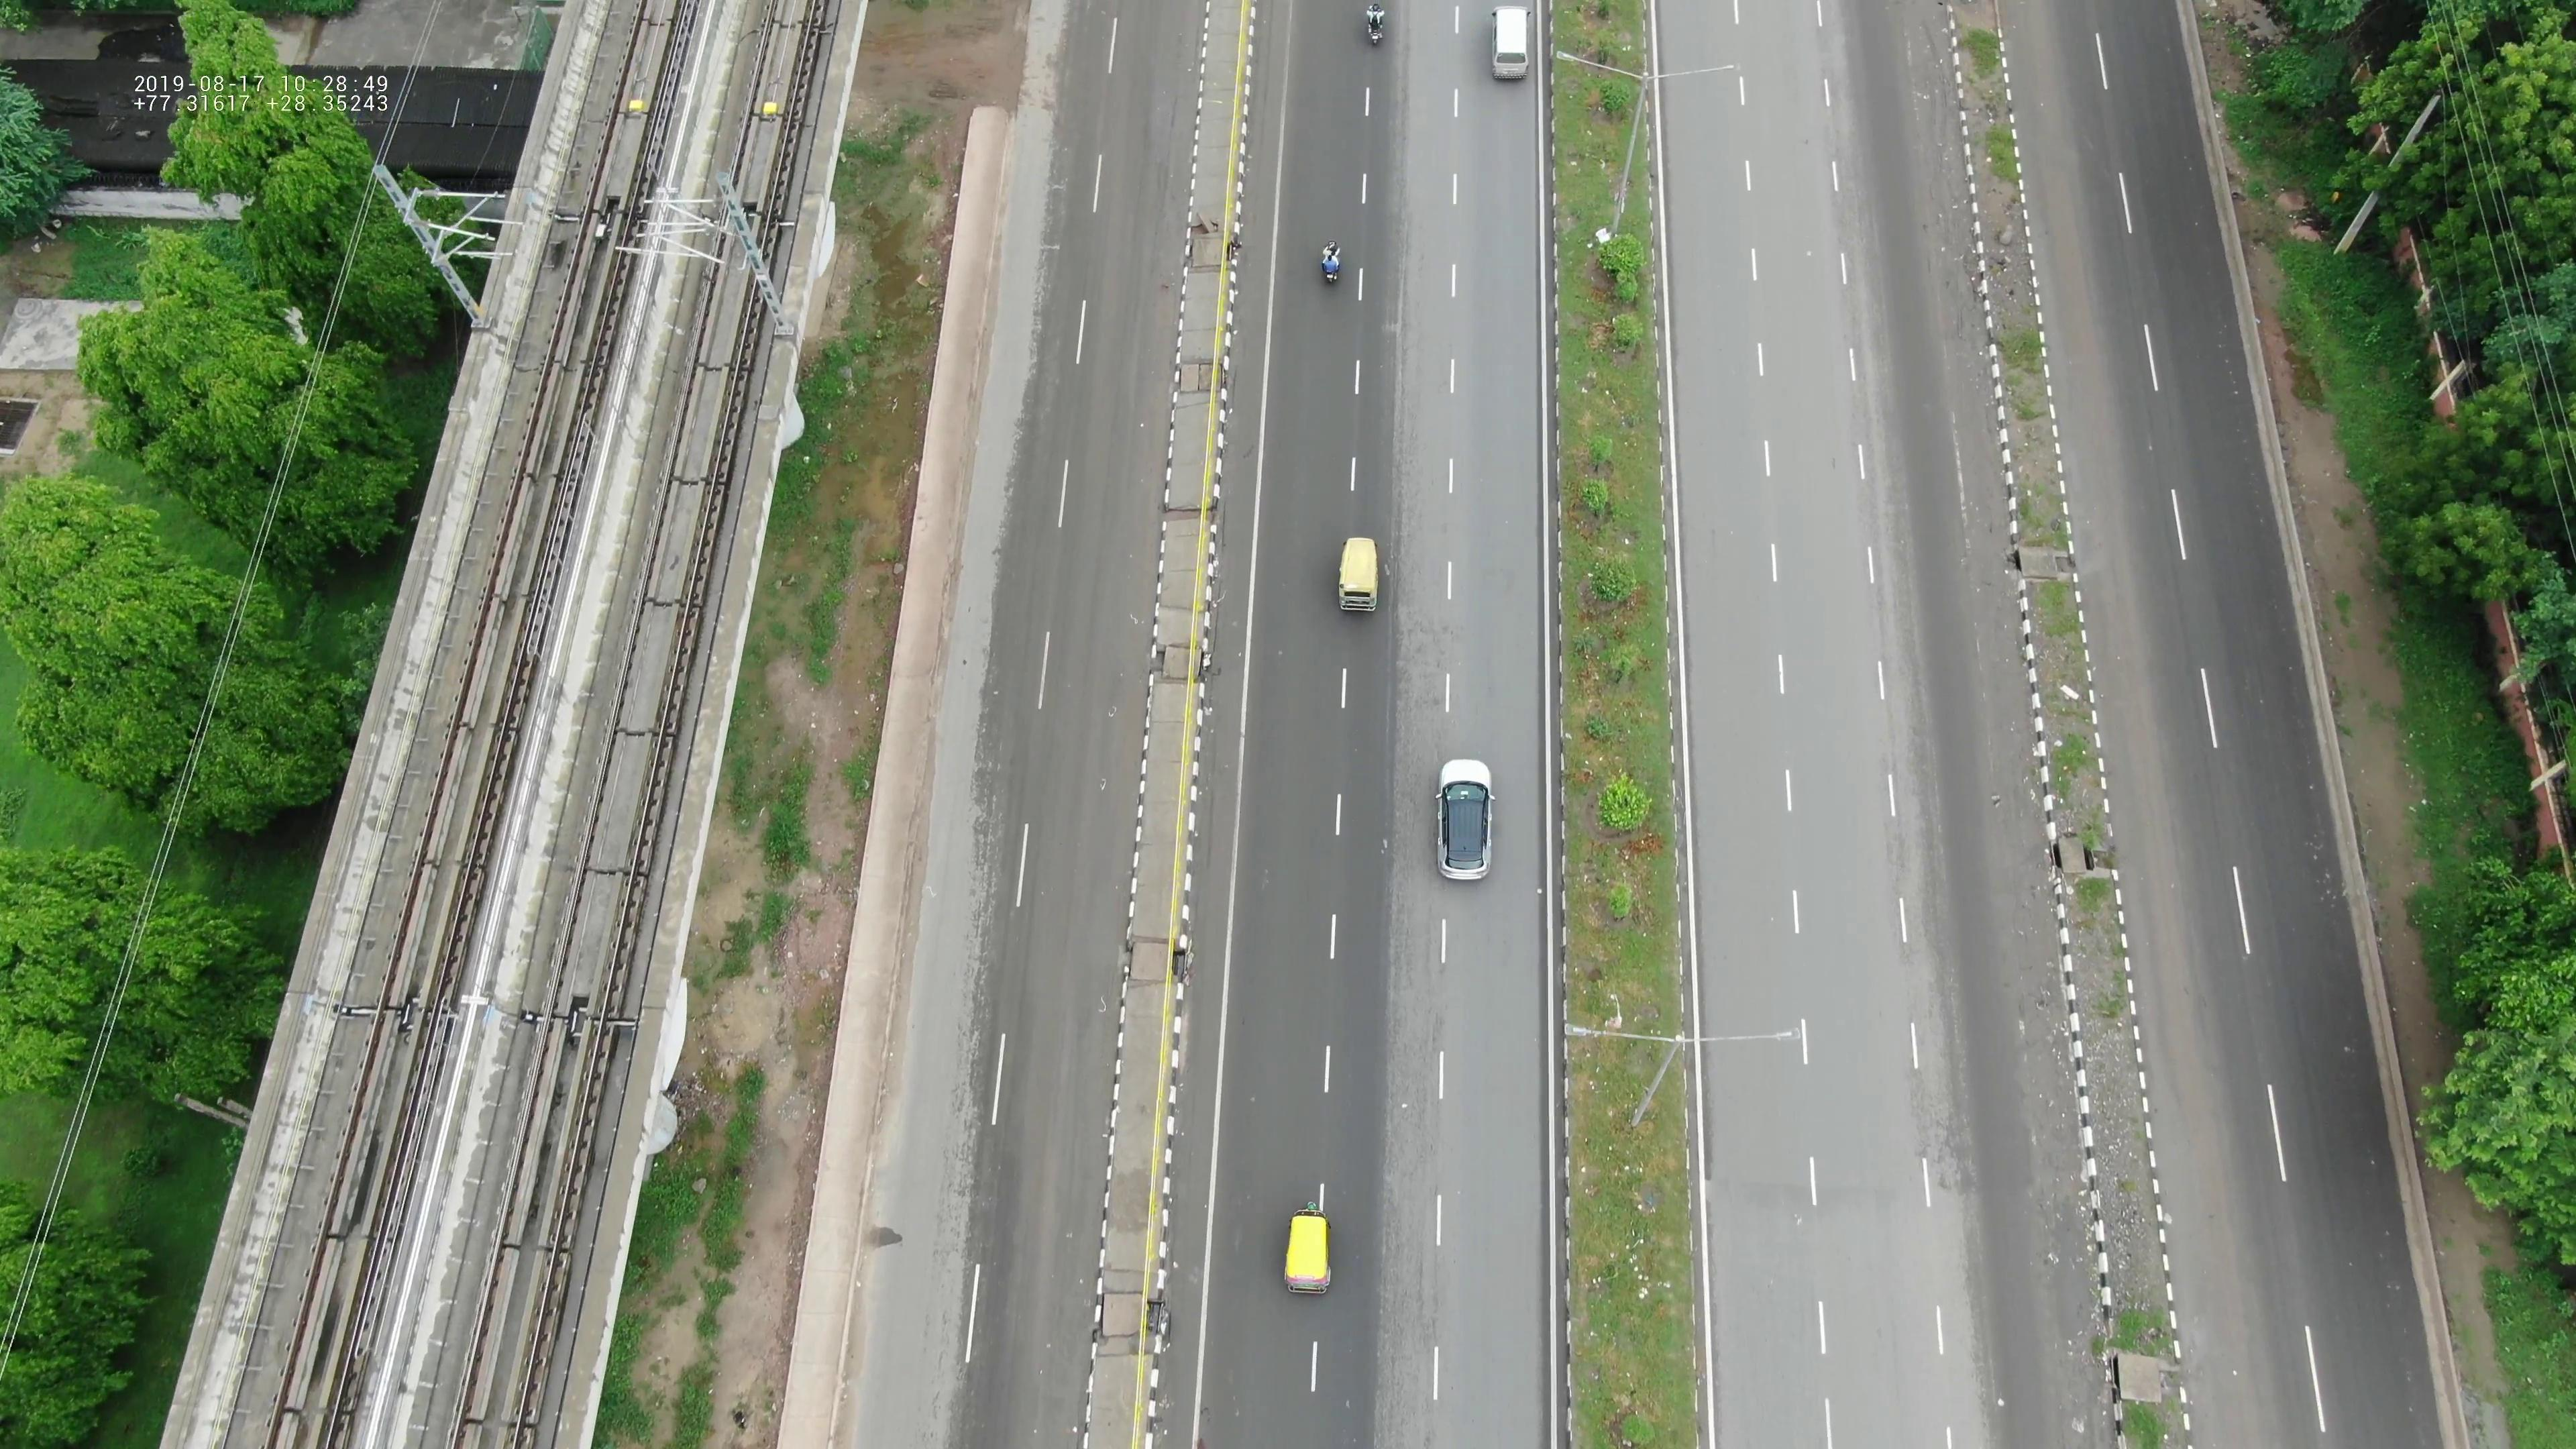Muddy_road: (1893, 149, 1985, 368), (1971, 635, 2051, 888), (1937, 384, 2019, 600)
Ravelling: (1898, 911, 1982, 1178), (1378, 1090, 1437, 1435), (1378, 272, 1433, 552), (1387, 828, 1447, 1079), (1394, 582, 1440, 824)
